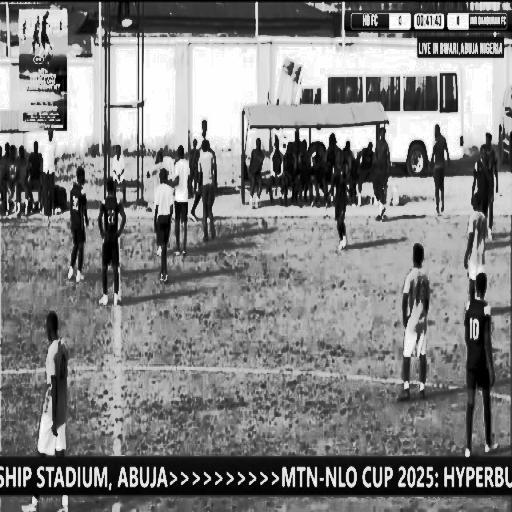distract: (198, 140, 218, 242), (174, 148, 192, 258)
referee: (153, 166, 173, 284)
team1: (398, 233, 436, 409), (33, 300, 69, 455), (466, 190, 488, 272)
team2: (464, 274, 498, 455), (97, 169, 126, 313), (72, 162, 90, 285), (331, 149, 350, 255), (479, 130, 499, 211)
